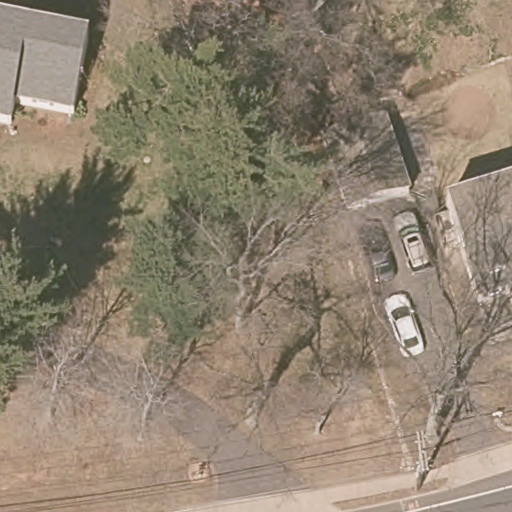DT: (411, 429, 431, 493)
